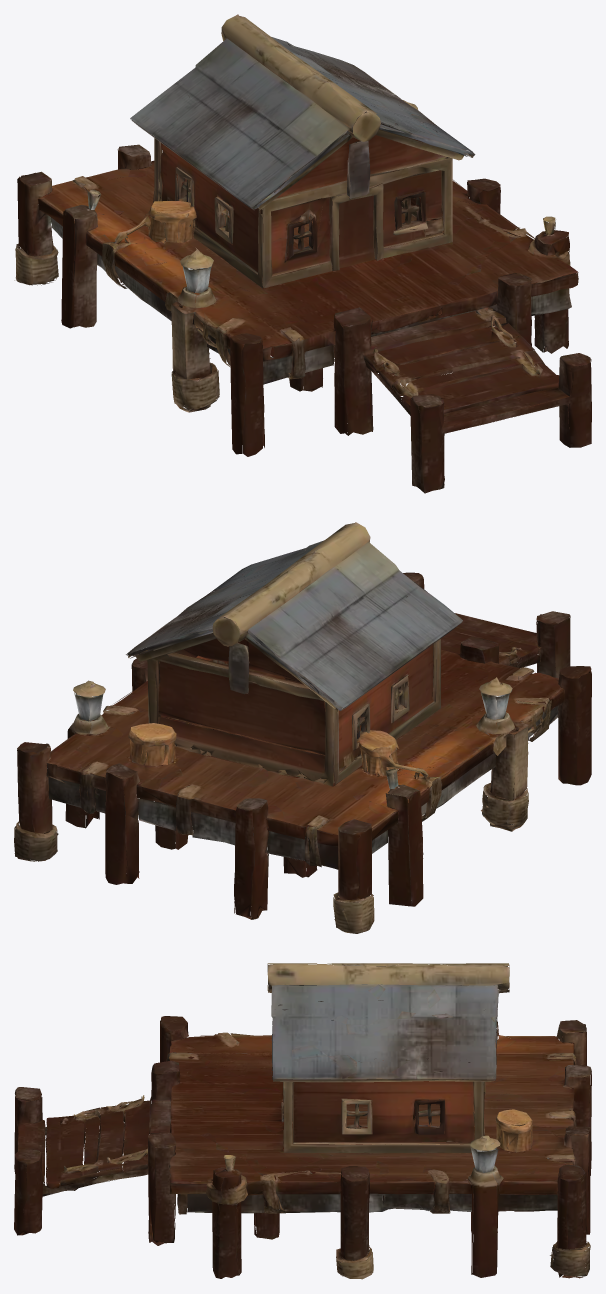
File: dock.glb
3 renders of one model, top to bottom at view 1: azimuth 30°, elevation 25°; view 2: azimuth 150°, elevation 25°; view 3: azimuth 270°, elevation 25°, orthographic. The views are drawn at different scales.
Visible parts, largest first — view 1: world; view 2: world; view 3: world.
Part boxes in pixels (x1,y1,x2,y2): world: [14, 14, 591, 493]; world: [14, 522, 591, 933]; world: [14, 963, 591, 1279].
Size of the model in its own units: 0.6727 by 0.4586 by 1.
Materials: 1 (1 with a texture image).
